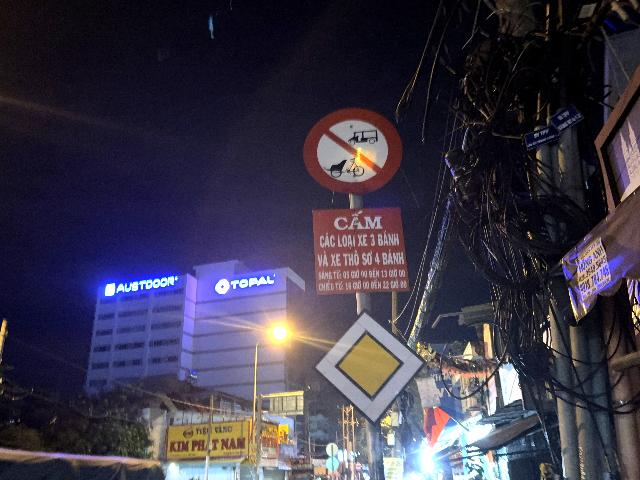bat-dau-duong-uu-tien: (311, 308, 426, 424)
cam-xe-3-banh-xe-tho-so-4-banh: (302, 106, 405, 195)
